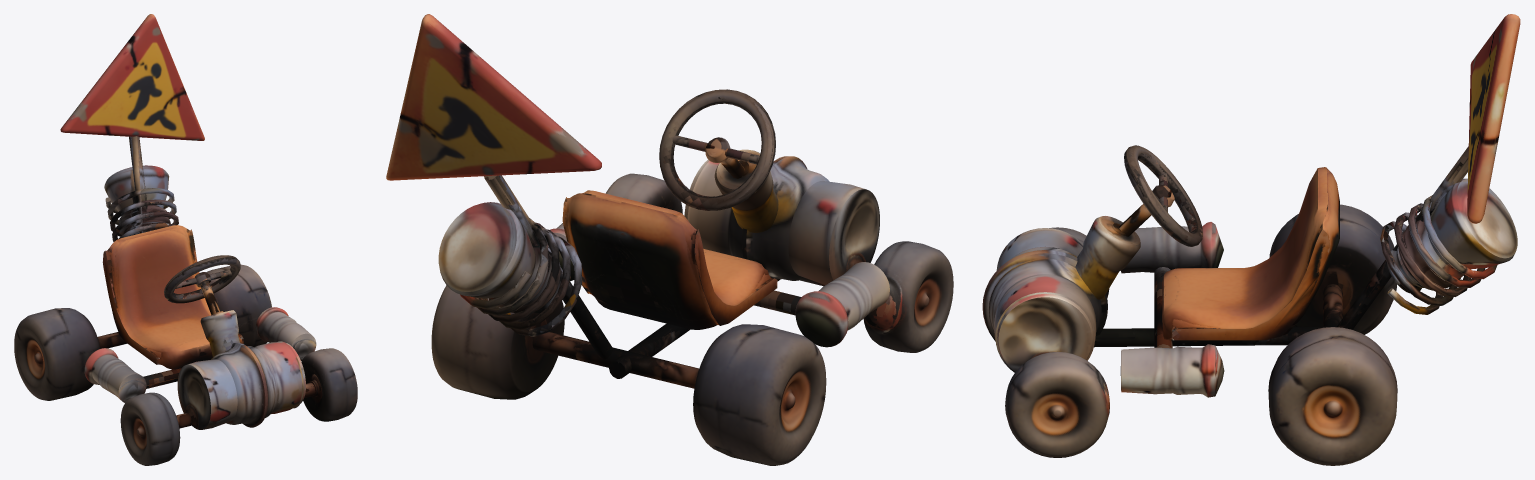
The model's file is kart.glb.
3 renders of one model, left to right at view 1: azimuth 30°, elevation 25°; view 2: azimuth 150°, elevation 25°; view 3: azimuth 270°, elevation 25°, orthographic. The views are drawn at different scales.
Visible parts, largest first — view 1: body, wheel_RR, wheel_FR, wheel_FL, wheel_RL, steering_wheel; view 2: body, wheel_RR, wheel_RL, wheel_FR, steering_wheel, wheel_FL; view 3: body, wheel_RL, wheel_FL, wheel_RR, steering_wheel.
Boxes of the visible parts, left/top/right/bottom form: body: left=60, top=14, right=316, bottom=429; wheel_RR: left=14, top=308, right=100, bottom=400; wheel_FR: left=120, top=392, right=180, bottom=465; wheel_FL: left=301, top=348, right=357, bottom=421; wheel_RL: left=206, top=264, right=271, bottom=347; steering_wheel: left=164, top=255, right=240, bottom=303; body: left=386, top=14, right=889, bottom=388; wheel_RR: left=693, top=324, right=826, bottom=465; wheel_RL: left=431, top=285, right=564, bottom=399; wheel_FR: left=863, top=241, right=953, bottom=352; steering_wheel: left=659, top=89, right=775, bottom=210; wheel_FL: left=605, top=173, right=682, bottom=213; body: left=982, top=14, right=1520, bottom=397; wheel_RL: left=1268, top=327, right=1397, bottom=465; wheel_FL: left=1005, top=351, right=1109, bottom=457; wheel_RR: left=1269, top=204, right=1397, bottom=334; steering_wheel: left=1124, top=145, right=1202, bottom=246.
Bounding box in the file's own units: 1.06 × 1.34 × 1.52.
1 material, 1 textured.
